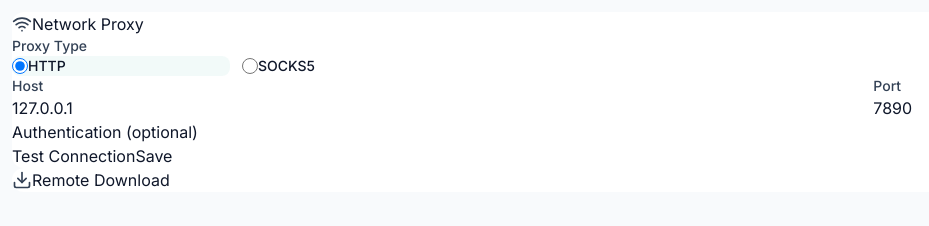
Scenario: NetworkPanel (web) › tests the proxy through NoNo even if a stray electronAPI global exists
The width and height of the screenshot is (929, 226).
Click the button "Test Connection": (74, 156) 12,144 -> 135,168
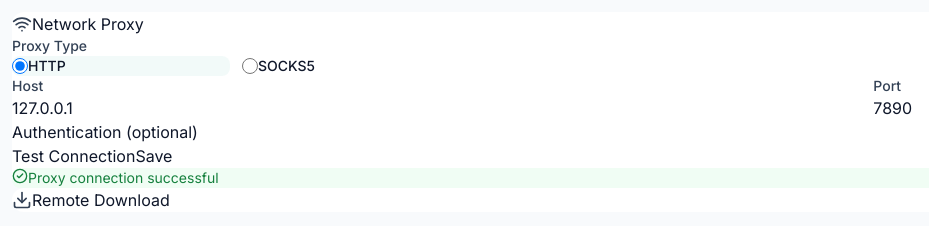
Result: the text "Proxy connection successful" is shown at 28,168 -> 219,188
